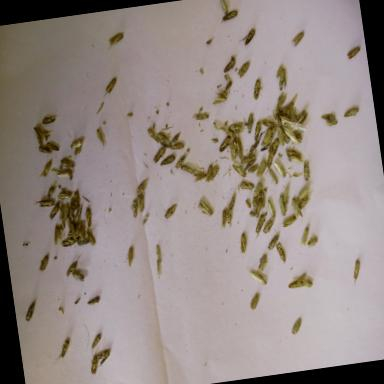abw: (280, 112, 308, 146)
pbw: (52, 338, 72, 361), (251, 214, 268, 240), (247, 265, 267, 287), (32, 125, 52, 146), (253, 153, 269, 178), (172, 150, 192, 170), (94, 349, 113, 370), (197, 198, 213, 218), (22, 302, 38, 322), (350, 259, 362, 285), (280, 180, 292, 206), (288, 278, 314, 290), (232, 132, 243, 160), (35, 162, 52, 180), (210, 88, 227, 106), (236, 60, 252, 78), (242, 28, 258, 46), (222, 55, 238, 73), (152, 146, 168, 164), (64, 258, 80, 276), (36, 255, 51, 274), (290, 196, 302, 219), (232, 160, 247, 178), (103, 78, 118, 96), (266, 138, 281, 156), (274, 92, 288, 111), (46, 201, 60, 220), (252, 78, 264, 100), (252, 120, 264, 142), (298, 227, 311, 247), (298, 194, 314, 210), (266, 234, 282, 250), (261, 217, 276, 234), (289, 317, 303, 335), (221, 8, 239, 22), (272, 160, 286, 178), (277, 194, 288, 216), (88, 354, 99, 376), (240, 180, 256, 195), (164, 202, 178, 219), (248, 293, 262, 310), (255, 254, 268, 272), (147, 127, 160, 145), (275, 243, 286, 264), (78, 220, 88, 243), (224, 205, 234, 228), (238, 232, 248, 255), (191, 168, 207, 182), (72, 140, 86, 156), (108, 32, 124, 46), (250, 181, 264, 197), (134, 178, 148, 194), (296, 109, 310, 125), (302, 160, 312, 182), (228, 140, 238, 162), (32, 198, 54, 208), (245, 112, 255, 134), (280, 216, 298, 228), (284, 145, 302, 157), (296, 186, 311, 200), (71, 269, 85, 284), (88, 335, 102, 350), (292, 31, 306, 46), (227, 192, 238, 211), (57, 237, 76, 248), (72, 206, 83, 225), (218, 137, 231, 153), (179, 164, 196, 176), (343, 106, 360, 118), (266, 198, 276, 218), (86, 228, 96, 248), (136, 193, 146, 213), (96, 128, 106, 148), (72, 190, 82, 210), (254, 198, 264, 218), (52, 226, 62, 246), (204, 164, 215, 182), (240, 154, 258, 165), (276, 125, 285, 147), (220, 125, 234, 139), (277, 108, 291, 122), (250, 193, 262, 209), (62, 158, 74, 174), (228, 122, 244, 134), (160, 154, 176, 166), (57, 201, 67, 220), (346, 46, 360, 59), (268, 167, 278, 185), (219, 209, 228, 229), (280, 126, 290, 144), (126, 246, 135, 266), (262, 128, 274, 143), (84, 206, 92, 228), (286, 154, 302, 165), (58, 170, 72, 182), (246, 163, 260, 175), (38, 144, 52, 156), (260, 136, 274, 148), (281, 102, 295, 114), (86, 294, 100, 306), (191, 112, 209, 121), (277, 70, 287, 86), (320, 113, 336, 123), (42, 115, 58, 125), (132, 198, 140, 218), (210, 164, 220, 180), (67, 197, 75, 217), (261, 118, 274, 130), (156, 131, 170, 142), (76, 235, 90, 246), (288, 149, 302, 160), (218, 0, 228, 15), (170, 132, 182, 144), (46, 184, 57, 197), (305, 237, 318, 248), (244, 160, 257, 171), (274, 64, 284, 78), (154, 263, 162, 280), (155, 245, 162, 264), (46, 142, 59, 152), (69, 139, 82, 149), (266, 152, 274, 168), (272, 109, 279, 127), (223, 82, 233, 94), (169, 142, 184, 150), (62, 204, 70, 219), (325, 118, 338, 127), (58, 192, 72, 200), (65, 216, 72, 232), (288, 108, 296, 122), (212, 121, 220, 135), (259, 190, 265, 208), (70, 223, 76, 241), (224, 74, 231, 83), (142, 215, 148, 225), (245, 199, 251, 209), (58, 227, 63, 238), (58, 307, 64, 315), (60, 218, 64, 230), (74, 298, 81, 304), (206, 38, 213, 44), (210, 138, 218, 143), (199, 68, 204, 75)
